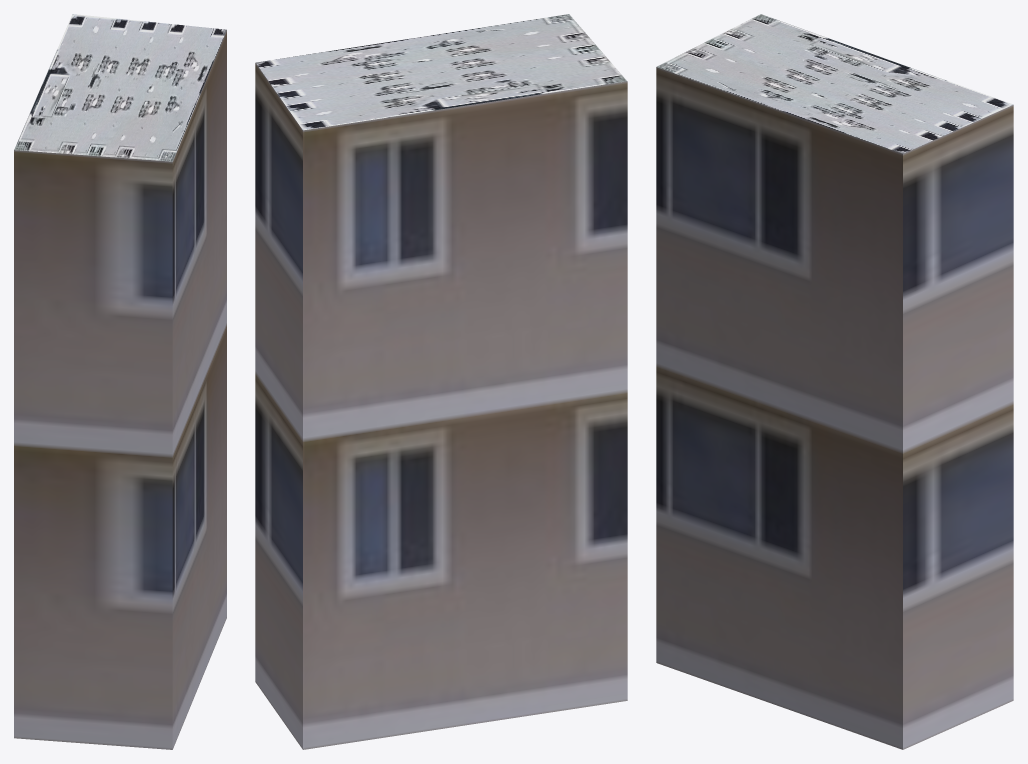
Rendered from ResTex__1167.fbx.
3 renders of one model, left to right at view 1: azimuth 30°, elevation 25°; view 2: azimuth 150°, elevation 25°; view 3: azimuth 270°, elevation 25°, orthographic. The views are drawn at different scales.
Visible parts, largest first — view 1: CityEngineMaterial_21_m, CityEngineMaterial_m; view 2: CityEngineMaterial_21_m, CityEngineMaterial_m; view 3: CityEngineMaterial_21_m, CityEngineMaterial_m.
Boxes of the visible parts, <box> form: CityEngineMaterial_21_m: <box>14,30,226,749</box>; CityEngineMaterial_m: <box>14,14,226,161</box>; CityEngineMaterial_21_m: <box>255,63,627,749</box>; CityEngineMaterial_m: <box>256,14,626,130</box>; CityEngineMaterial_21_m: <box>656,67,1013,749</box>; CityEngineMaterial_m: <box>656,14,1013,153</box>.
Size of the model in its own units: 3.02 by 6 by 3.26.
Materials: 2 (2 with a texture image).
